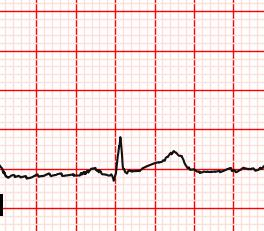LVH: (145, 146, 194, 172)
